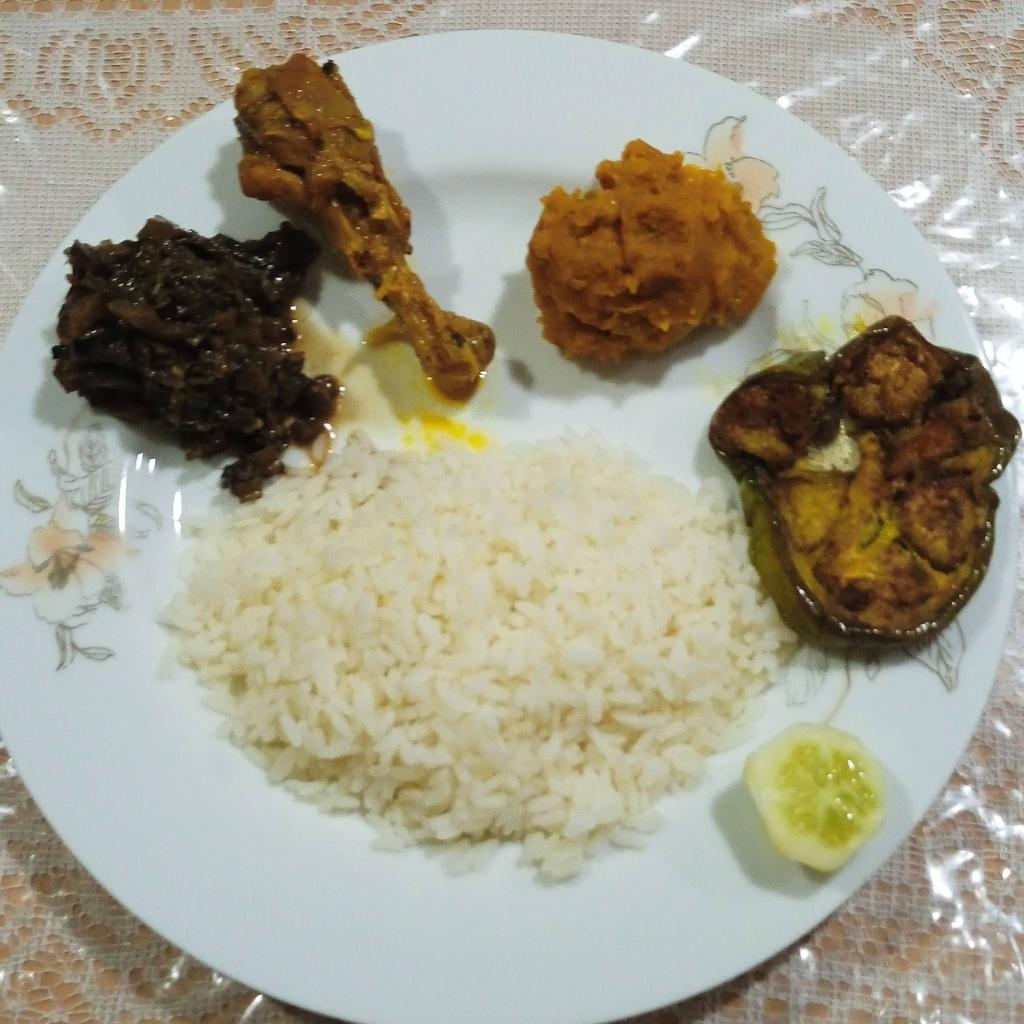begun-vaji: (704, 319, 1023, 658)
chicken: (231, 57, 494, 402)
cucumber: (743, 724, 886, 873)
kumra-vaji: (530, 142, 778, 364)
rice: (169, 425, 799, 873)
shak: (54, 221, 337, 499)
